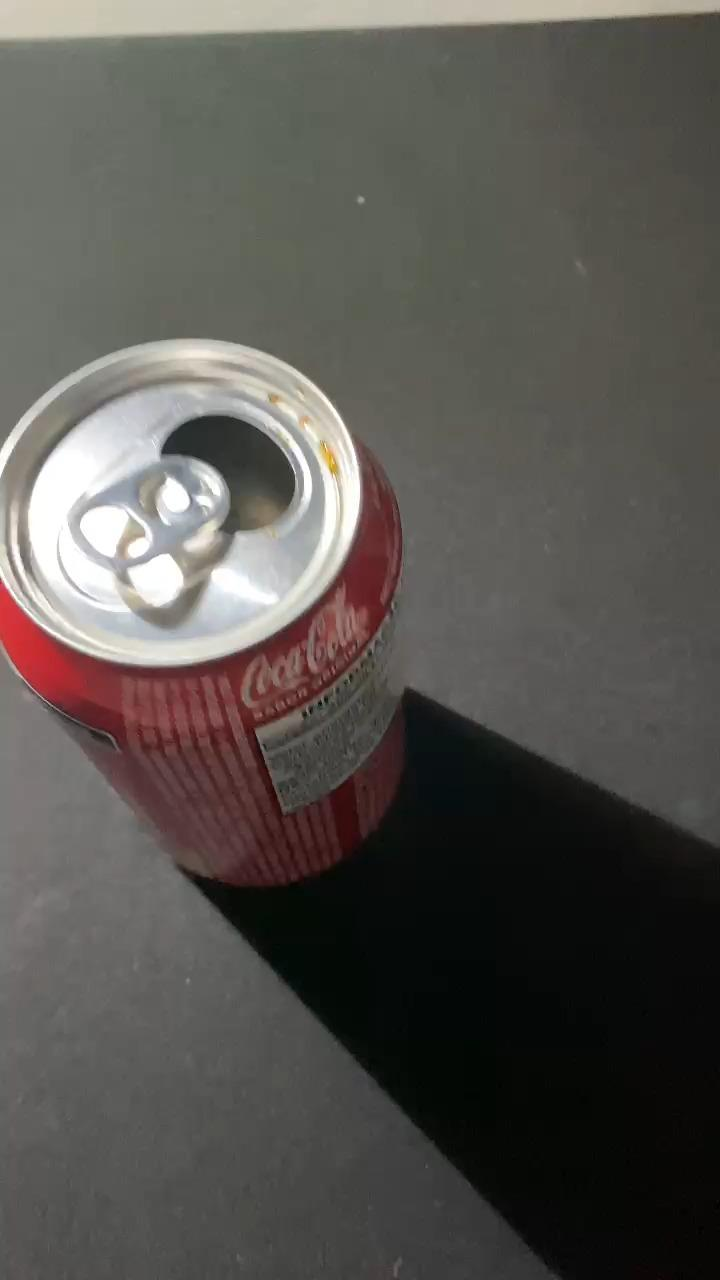coke: (2, 339, 414, 885)
